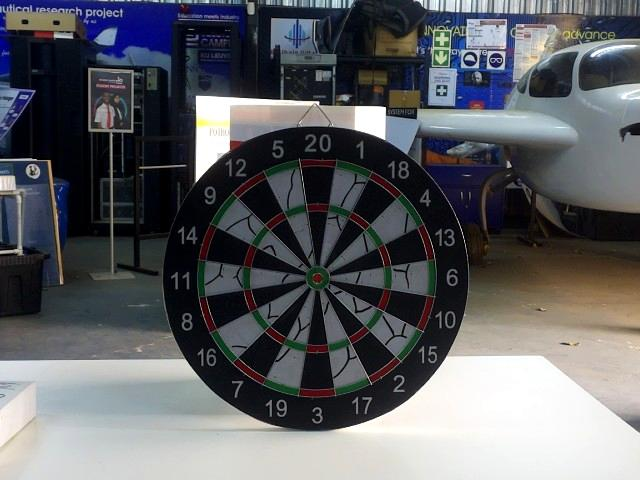triple_20: (309, 203, 328, 211)
